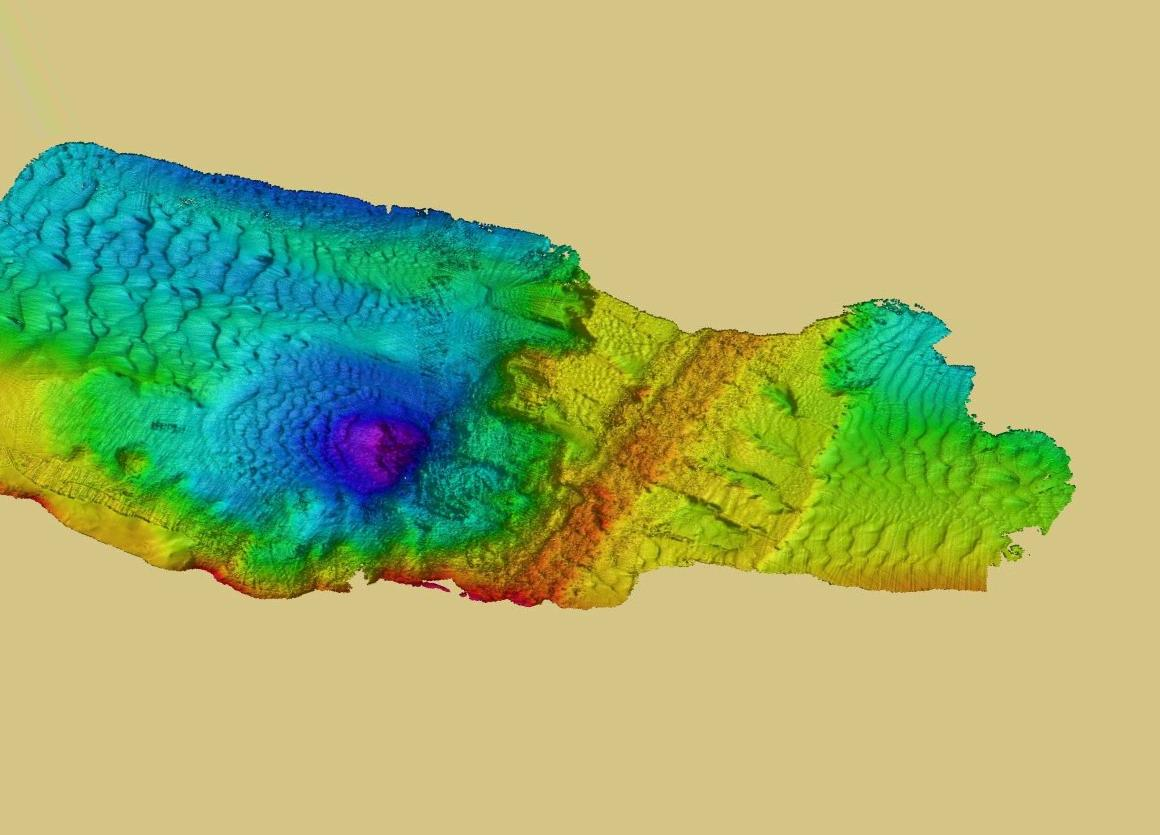Dune: (857, 265, 1068, 690), (25, 191, 395, 355), (819, 492, 1025, 603), (220, 358, 330, 476)
Scarp: (6, 481, 455, 653)
Scour pit: (313, 402, 447, 510)
Submerged dike: (604, 310, 782, 481), (520, 461, 639, 633)
